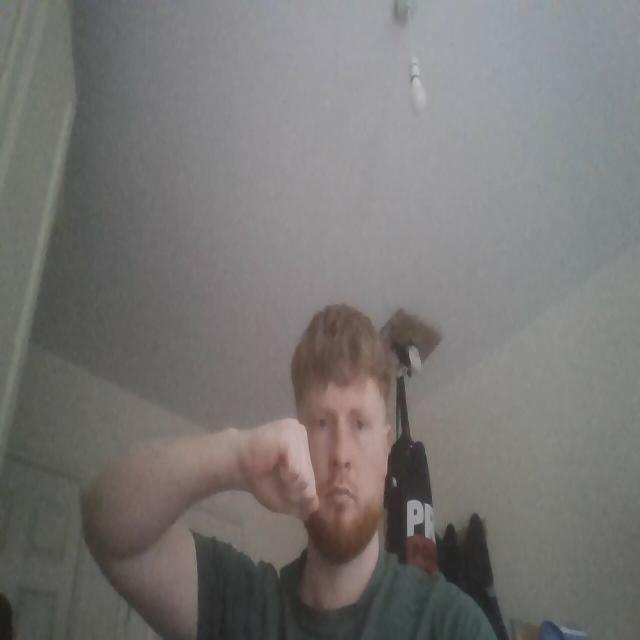rock: (230, 413, 320, 521)
